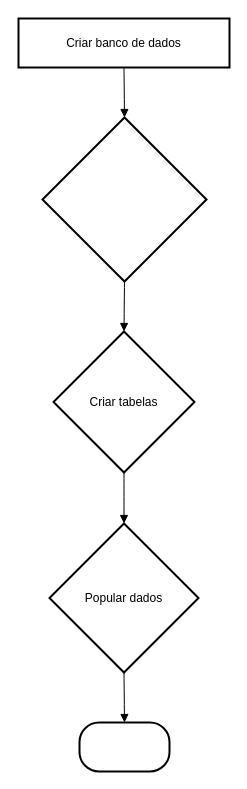
Some shapes in this 247 by 789 pixel diagram are drawn without their labels. Here are the shapes that lost their labels. From the top down, the box of each, then its label:
(41, 116, 207, 282): Conectar à rede
(78, 721, 170, 772): Concluir
